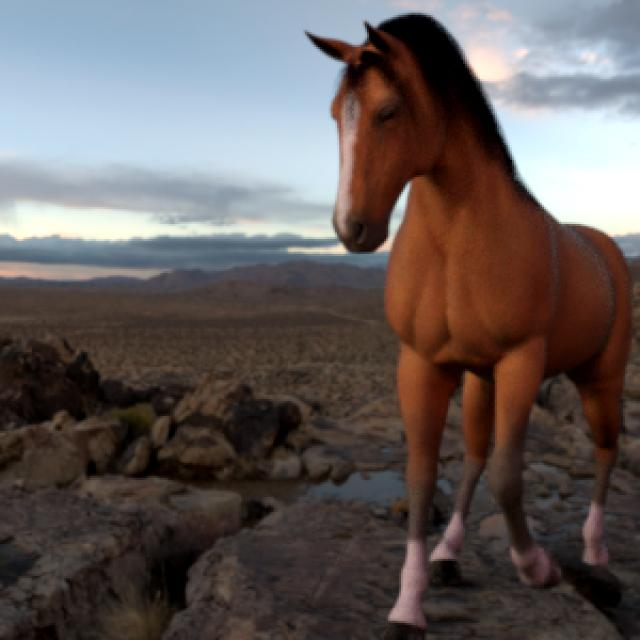horse: (309, 15, 631, 639)
